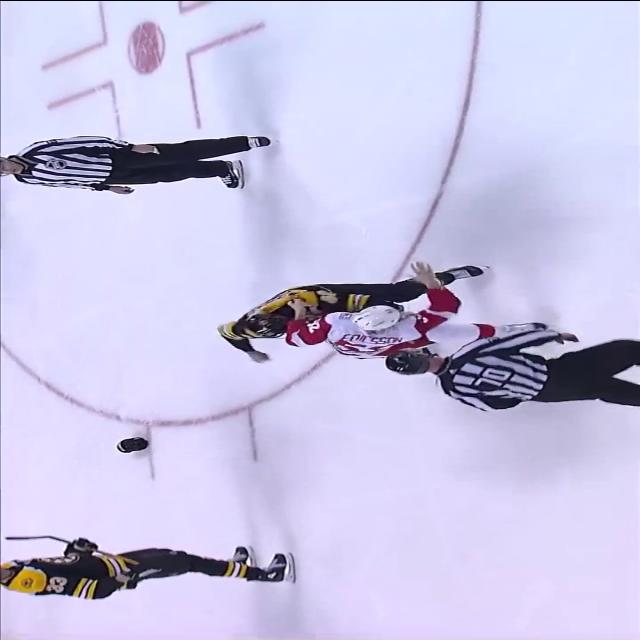NonViolence: (0, 532, 302, 599), (0, 130, 281, 196)
Violence: (221, 262, 559, 362)
